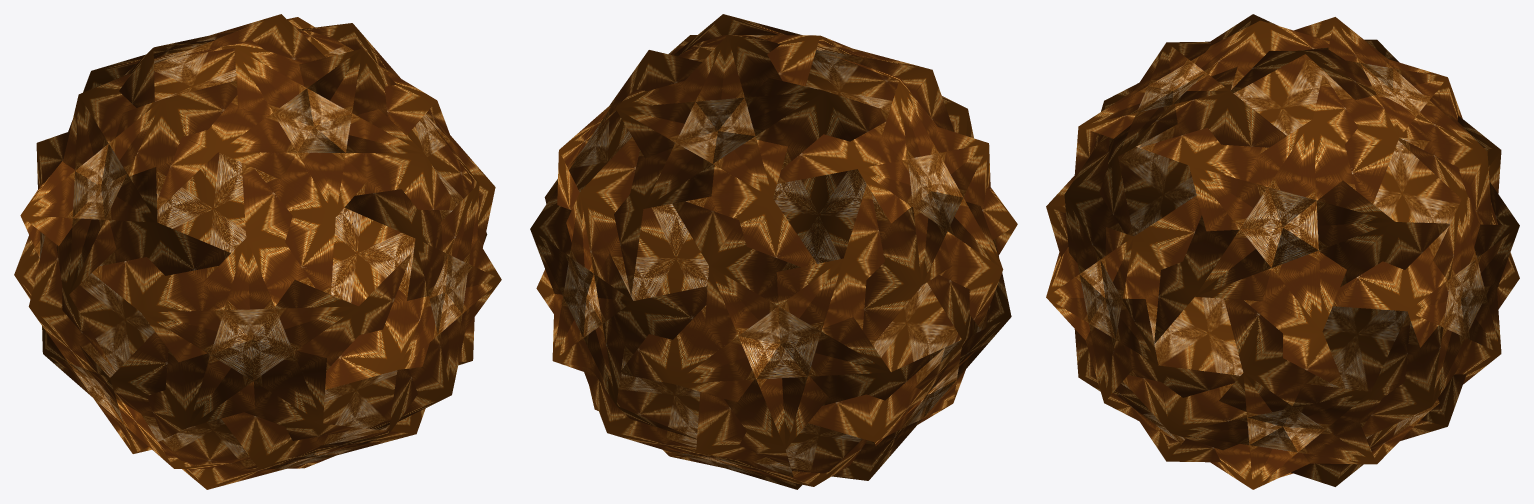
File: 20SnubIcosidodecadodecahedron.gltf
3 views of the same model, side by side, from view 1: azimuth 30°, elevation 25°; view 2: azimuth 150°, elevation 25°; view 3: azimuth 270°, elevation 25° (orthographic).
Visible parts, largest first — view 1: 16SnubIcosidodecadodecahedron; view 2: 16SnubIcosidodecadodecahedron; view 3: 16SnubIcosidodecadodecahedron.
Part boxes in pixels (x1,y1,x2,y2): 16SnubIcosidodecadodecahedron: [14, 14, 501, 489]; 16SnubIcosidodecadodecahedron: [530, 14, 1017, 489]; 16SnubIcosidodecadodecahedron: [1046, 14, 1519, 489].
Size of the model in its own units: 2.21 by 2.21 by 2.21.
1 material, 1 textured.
